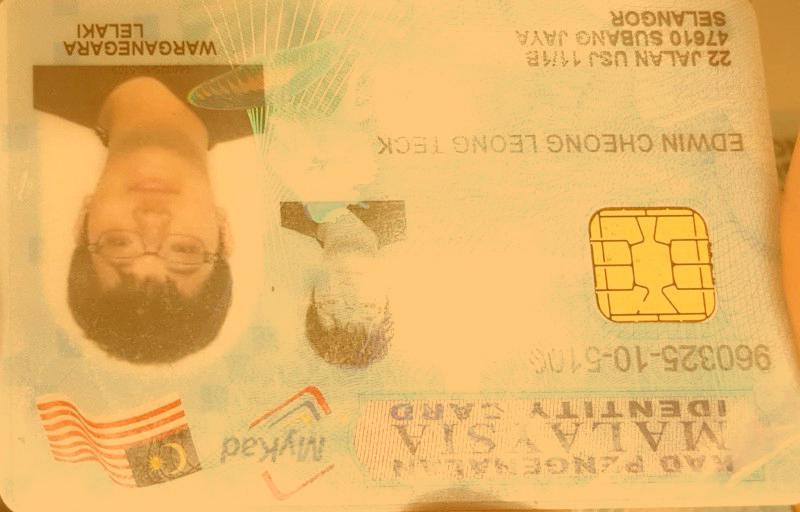hologramB: (262, 10, 377, 201)
